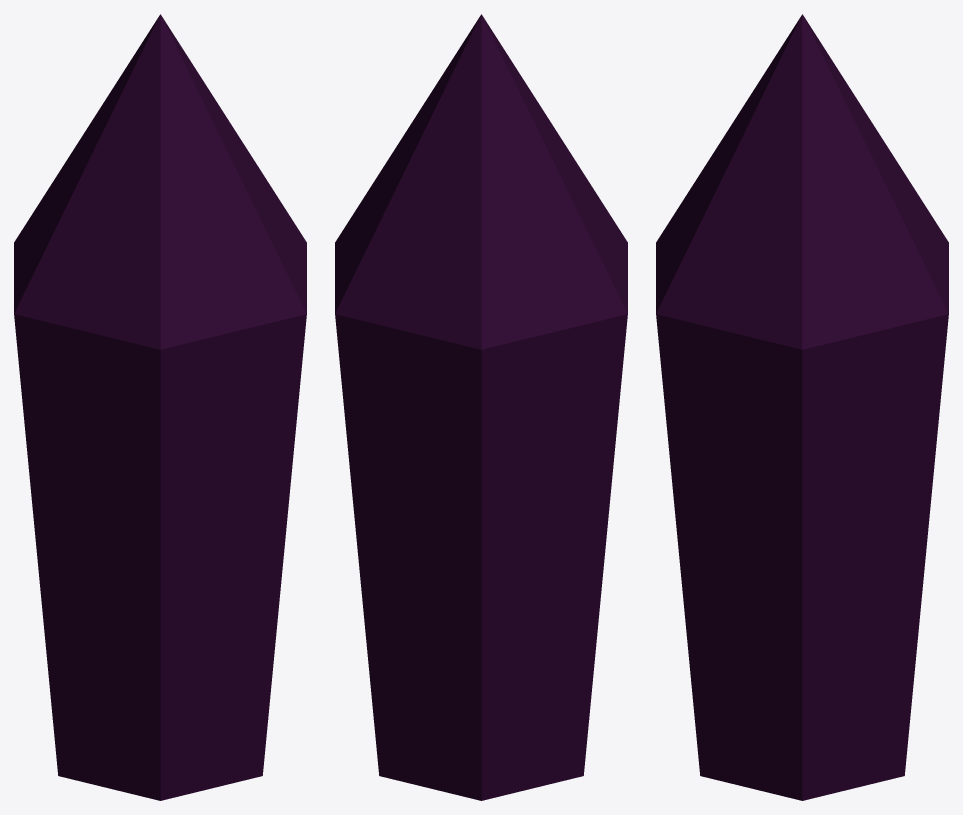
The model's file is crystal.fbx.
3 renders of one model, left to right at view 1: azimuth 30°, elevation 25°; view 2: azimuth 150°, elevation 25°; view 3: azimuth 270°, elevation 25°, orthographic.
Parts seen in each view (by area): view 1: crystal1; view 2: crystal1; view 3: crystal1.
Boxes of the visible parts, <box> form: crystal1: <box>14,14,306,800</box>; crystal1: <box>335,14,627,800</box>; crystal1: <box>656,14,948,800</box>.
Size of the model in its own units: 14.43 by 34.7 by 12.5.
